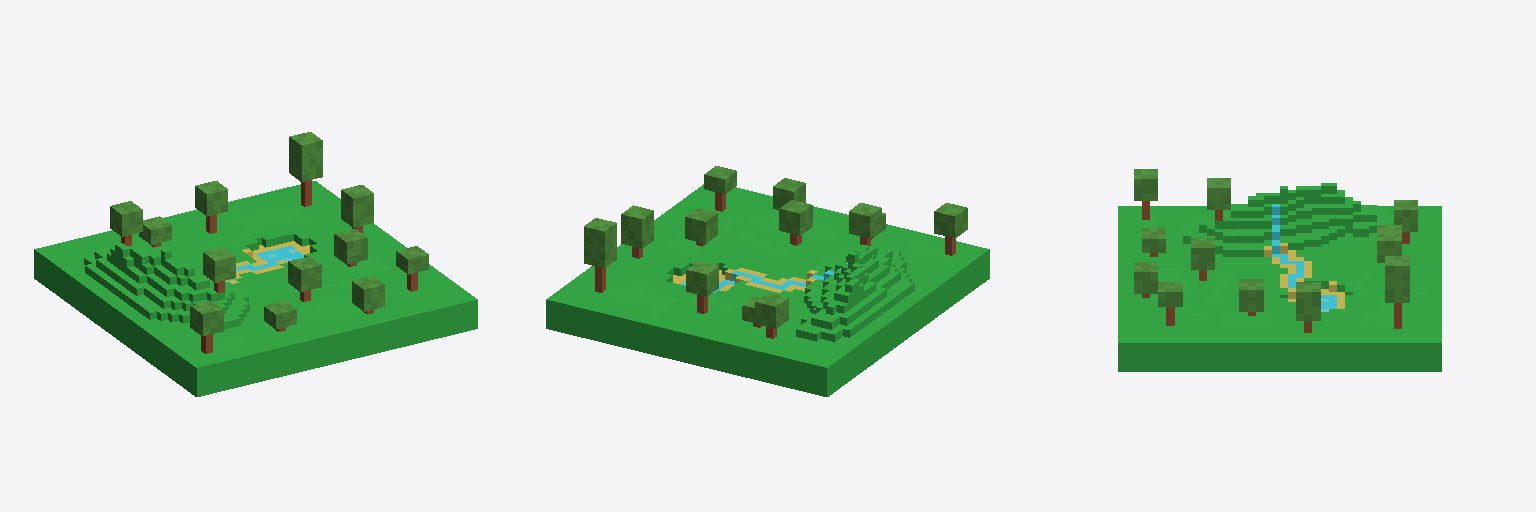
3 views of the same model, side by side, from view 1: azimuth 30°, elevation 25°; view 2: azimuth 150°, elevation 25°; view 3: azimuth 270°, elevation 25° (orthographic).
Parts seen in each view (by area): view 1: object 1; view 2: object 1; view 3: object 1.
Part boxes in pixels (bbox=[...]): object 1: bbox=[34, 132, 477, 396]; object 1: bbox=[546, 166, 989, 396]; object 1: bbox=[1118, 169, 1441, 371].
Size of the model in its own units: 4 by 1.3 by 4.
Materials: 1 (1 with a texture image).